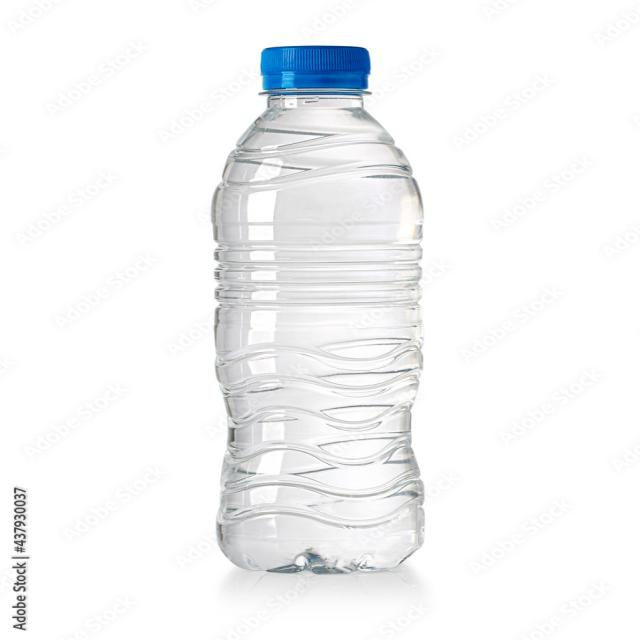bottle: (216, 43, 433, 580)
